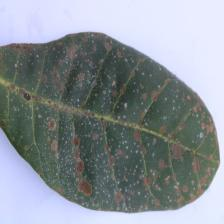red rust: (0, 31, 221, 213)
